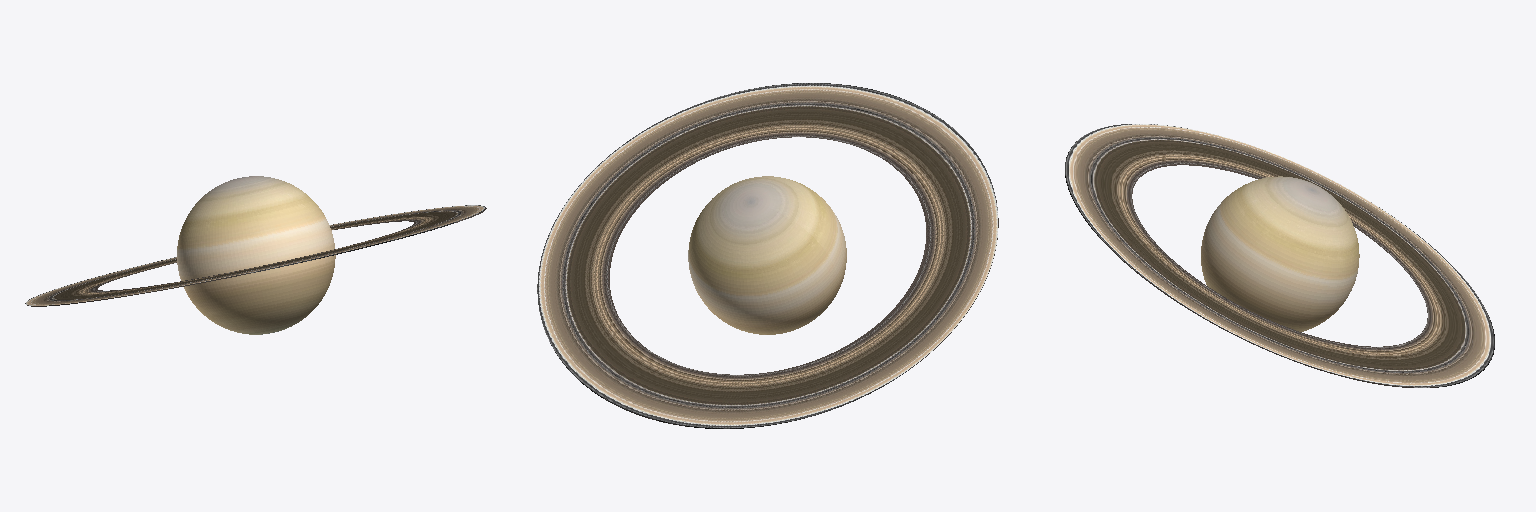
The picture shows the model from 3 angles: view 1: azimuth 30°, elevation 25°; view 2: azimuth 150°, elevation 25°; view 3: azimuth 270°, elevation 25°; orthographic projection.
Visible parts, largest first — view 1: Saturn; view 2: Saturn; view 3: Saturn.
Part boxes in pixels (x1,y1,x2,y2): Saturn: (25, 176, 486, 334); Saturn: (537, 83, 998, 428); Saturn: (1065, 124, 1494, 387).
Bounding box in the file's own units: 1.89 × 0.7719 × 1.73.
1 materials, 1 textured.